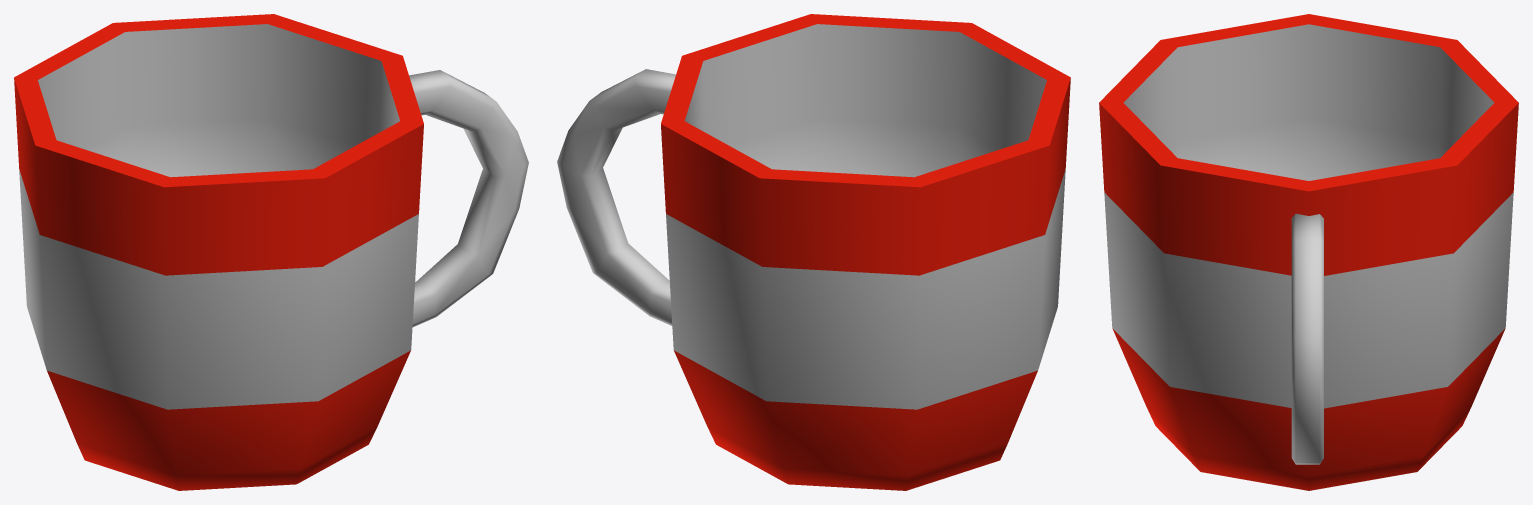
File: Coffee_Cup_07.FBX
3 renders of one model, left to right at view 1: azimuth 30°, elevation 25°; view 2: azimuth 150°, elevation 25°; view 3: azimuth 270°, elevation 25°, orthographic.
Visible parts, largest first — view 1: Coffee Cup; view 2: Coffee Cup; view 3: Coffee Cup.
Boxes of the visible parts, bbox=[...] form: Coffee Cup: bbox=[14, 14, 528, 490]; Coffee Cup: bbox=[557, 14, 1070, 490]; Coffee Cup: bbox=[1099, 14, 1518, 490].
Bounding box in the file's own units: 44.01 × 28.24 × 33.22.
